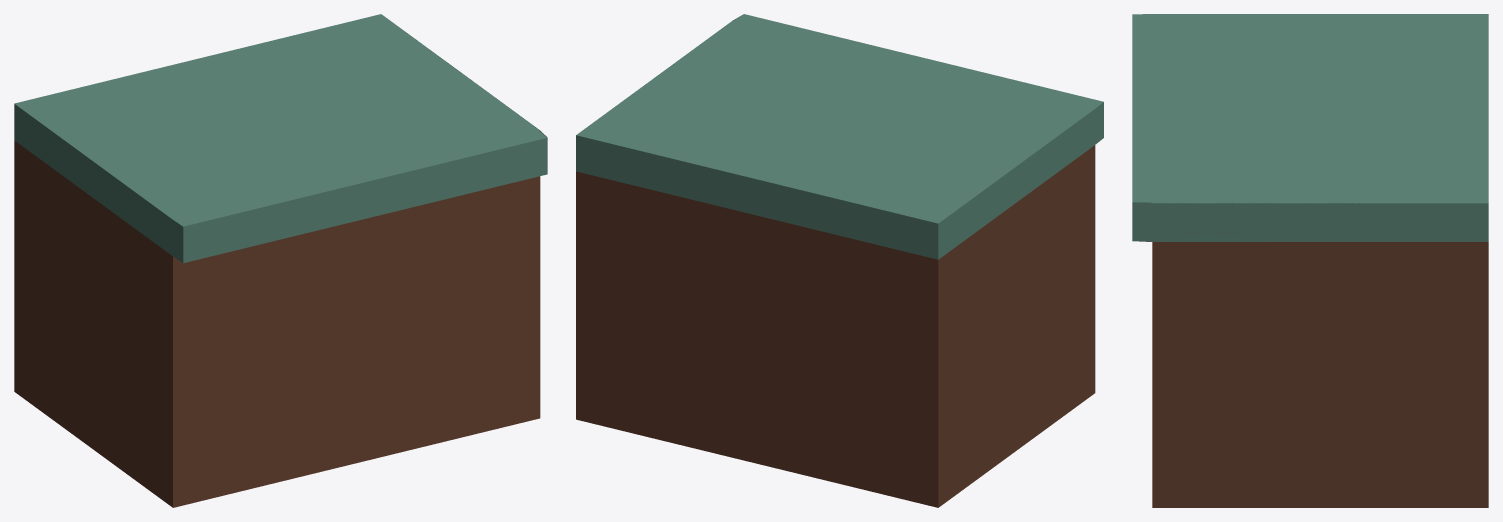
The model's file is Counter_Plain.fbx.
The picture shows the model from 3 angles, left to right: view 1: azimuth 30°, elevation 25°; view 2: azimuth 150°, elevation 25°; view 3: azimuth 270°, elevation 25°; orthographic projection. The views are drawn at different scales.
Parts seen in each view (by area): view 1: COUNTER PLAIN; view 2: COUNTER PLAIN; view 3: COUNTER PLAIN.
Boxes of the visible parts, <box> form: COUNTER PLAIN: <box>14,14,547,507</box>; COUNTER PLAIN: <box>576,14,1103,507</box>; COUNTER PLAIN: <box>1132,14,1488,507</box>.
Size of the model in its own units: 100 by 75 by 79.47.
